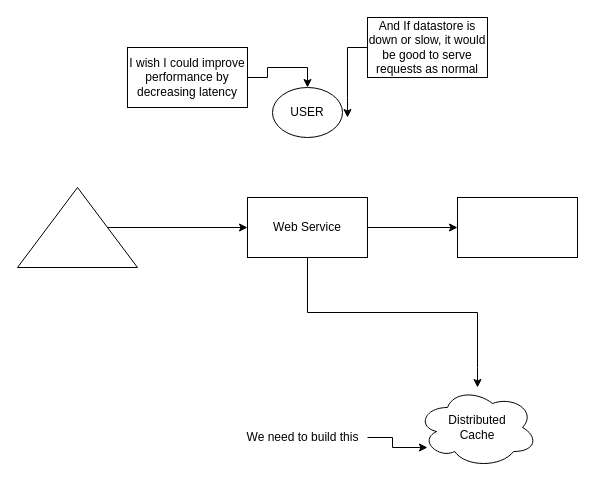
The diagram is 595 pixels wide and 485 high, and some of its shapes have lost their labels. The shapes that lost their labels are listed below. From the top down, each one's centre as x and y in pixels, then its label:
point 77,227: Client
point 517,227: DataStore
